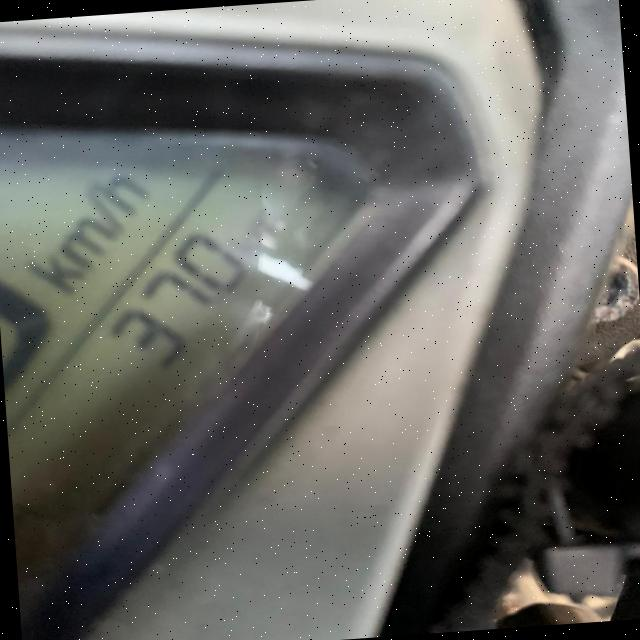odometer: (0, 79, 427, 624)
